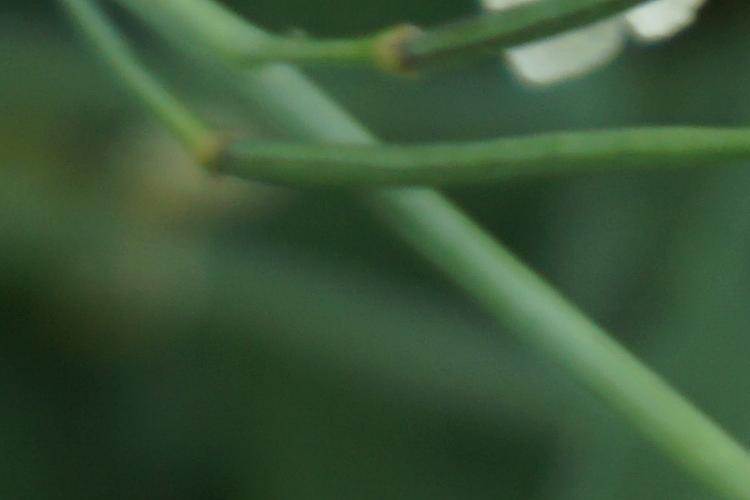pod: (190, 126, 744, 182), (379, 3, 669, 77)
